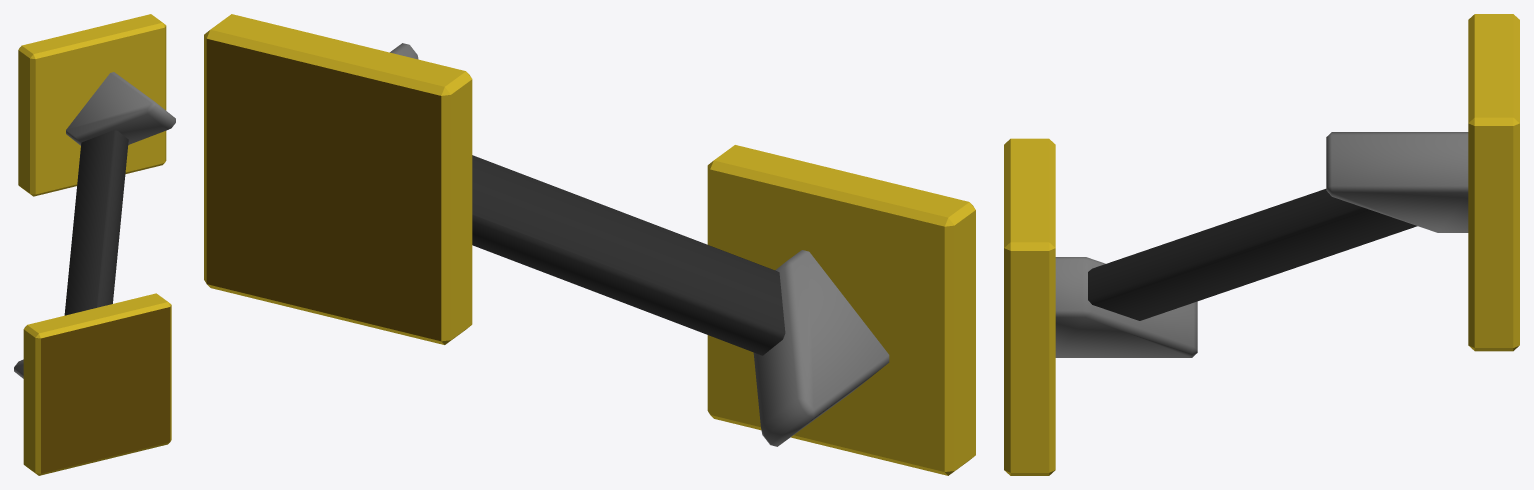
File: Rod2d3.fbx
The picture shows the model from 3 angles, left to right: view 1: azimuth 30°, elevation 25°; view 2: azimuth 150°, elevation 25°; view 3: azimuth 270°, elevation 25°; orthographic projection. The views are drawn at different scales.
Parts seen in each view (by area): view 1: Cube.005; view 2: Cube.005; view 3: Cube.005.
Boxes of the visible parts, bbox=[...] form: Cube.005: bbox=[14, 14, 175, 475]; Cube.005: bbox=[204, 14, 975, 475]; Cube.005: bbox=[1004, 14, 1519, 475].
Size of the model in its own units: 4 by 4 by 4.
